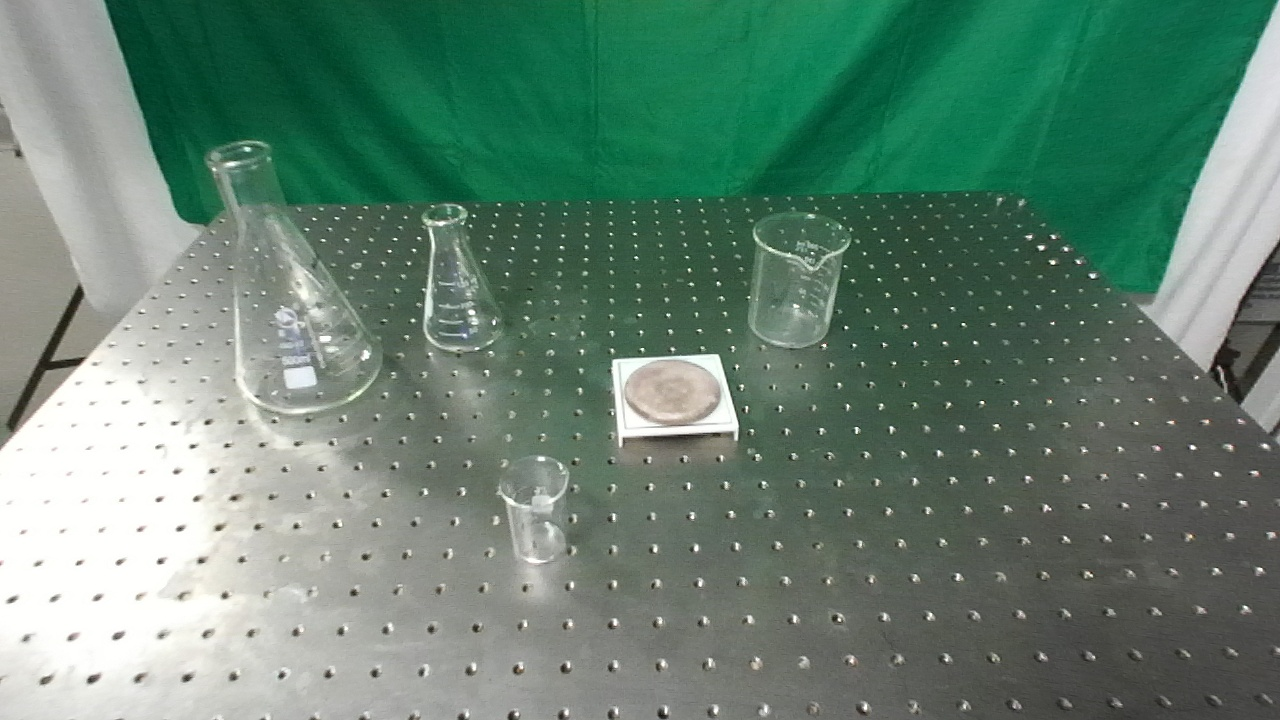glass: (204, 137, 385, 416), (746, 209, 854, 351), (417, 202, 509, 355), (493, 455, 574, 567)
plate: (606, 350, 742, 452)
